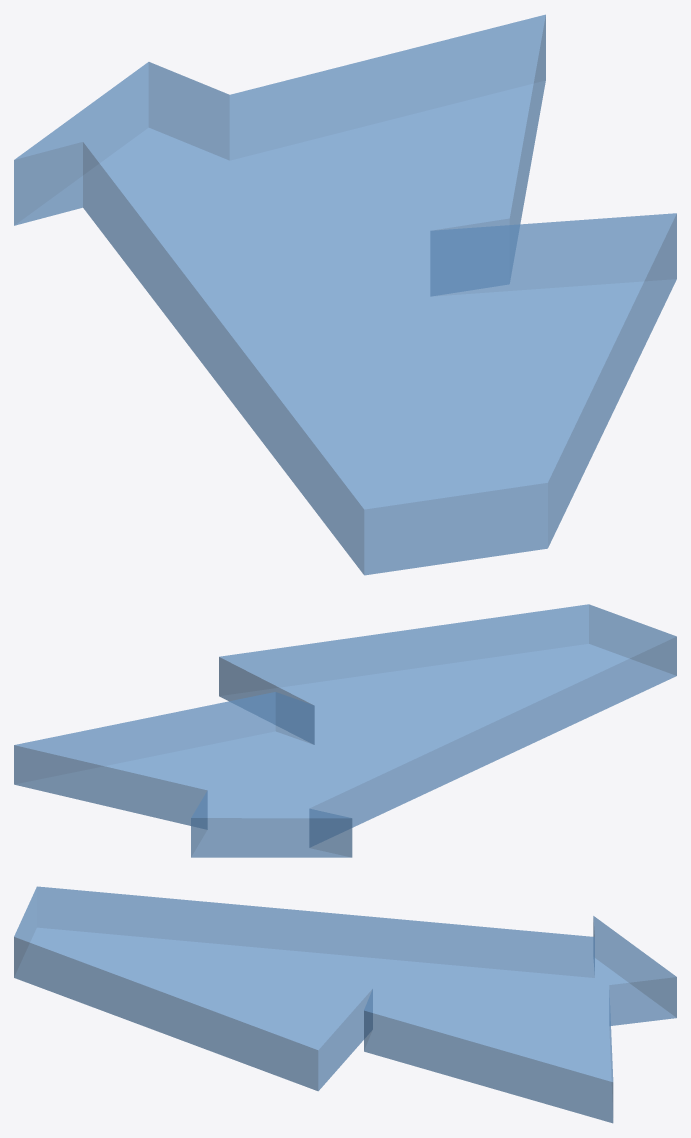
The model's file is IceBridgeP03.FBX.
The picture shows the model from 3 angles, top to bottom: view 1: azimuth 30°, elevation 25°; view 2: azimuth 150°, elevation 25°; view 3: azimuth 270°, elevation 25°; orthographic projection. The views are drawn at different scales.
Visible parts, largest first — view 1: iceBridgeP003; view 2: iceBridgeP003; view 3: iceBridgeP003.
Boxes of the visible parts, box(x1,y1,x2,y2) form: iceBridgeP003: box(14, 14, 676, 575); iceBridgeP003: box(14, 604, 676, 857); iceBridgeP003: box(14, 886, 676, 1123).
Size of the model in its own units: 81.75 by 8 by 117.
